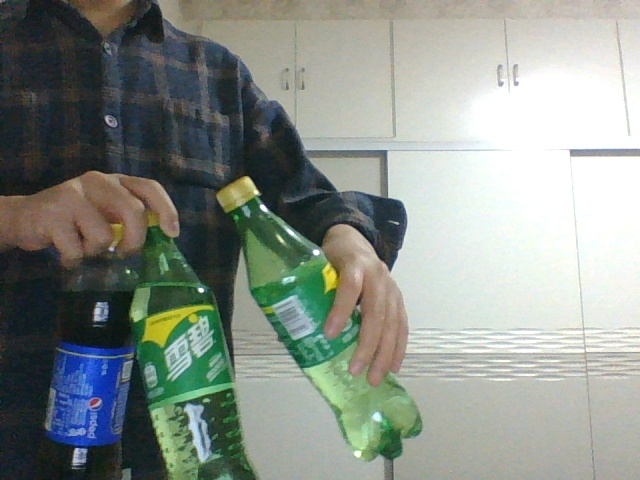Cola: (40, 224, 132, 477)
Sprite: (214, 174, 424, 460), (132, 213, 259, 479)
